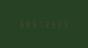eight: (23, 19, 28, 27)
five: (47, 20, 52, 28)
seven: (35, 19, 40, 27)
six: (17, 19, 22, 27), (29, 19, 34, 27)
three: (59, 20, 64, 28)
two: (41, 19, 46, 28), (53, 20, 58, 28)
